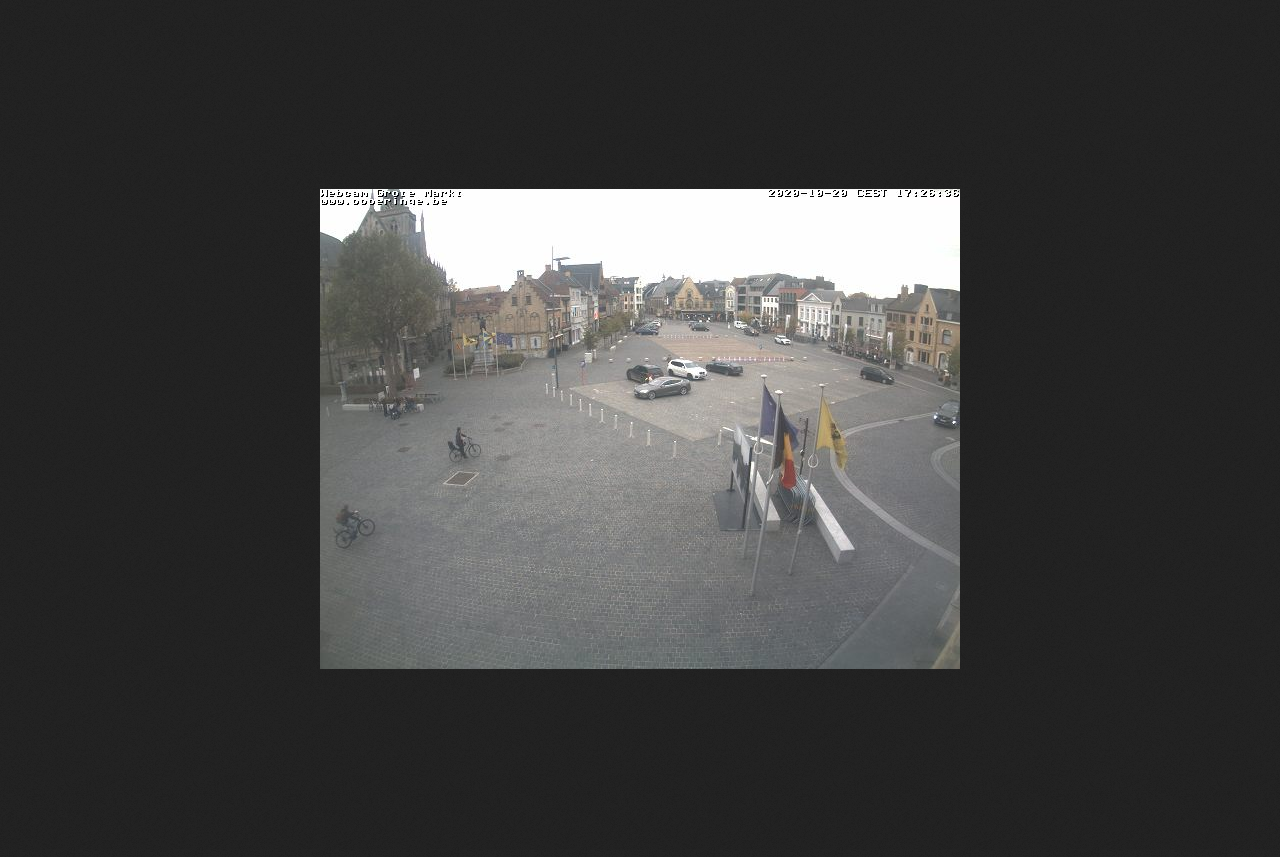maybe: (765, 385, 802, 496), (809, 376, 854, 466), (756, 375, 800, 442)
